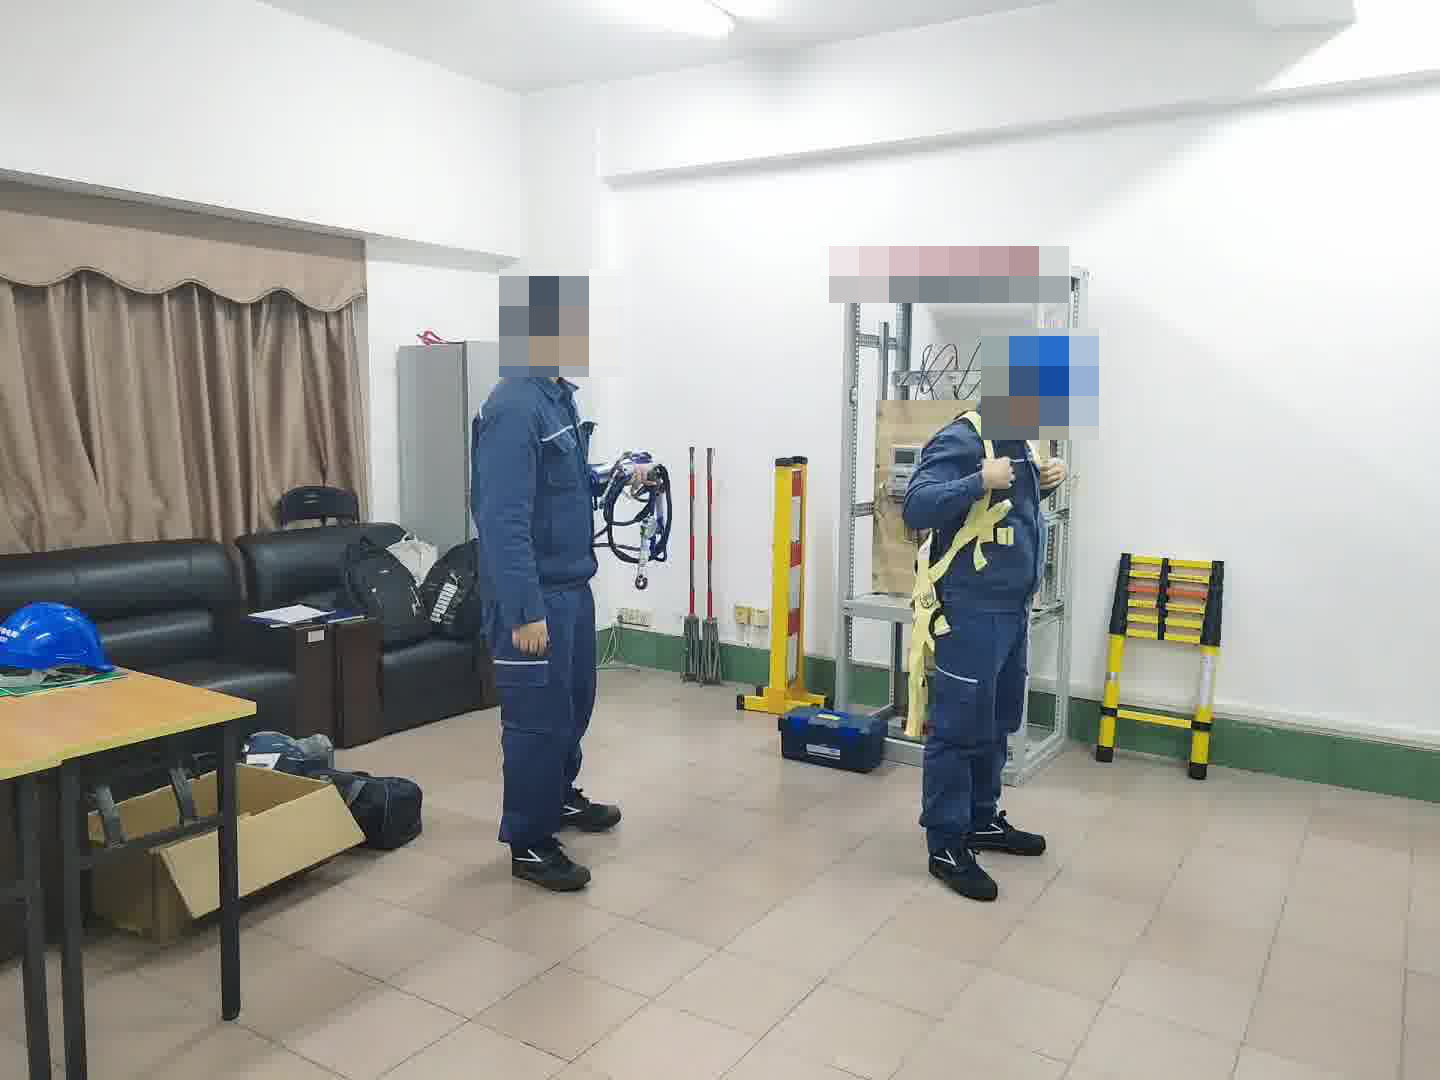downsuit: (492, 598, 600, 843), (921, 620, 1031, 838)
halt: (1001, 329, 1087, 426)
hand: (514, 619, 547, 656), (980, 458, 1010, 488), (1040, 456, 1063, 486)
inear: (1005, 375, 1031, 419)
noear: (530, 303, 584, 367)
person: (903, 327, 1088, 893), (466, 273, 616, 880)
safebelt: (908, 408, 1022, 731)
unhalt: (507, 274, 597, 370)
upsuit: (906, 407, 1048, 605), (470, 364, 594, 581)
